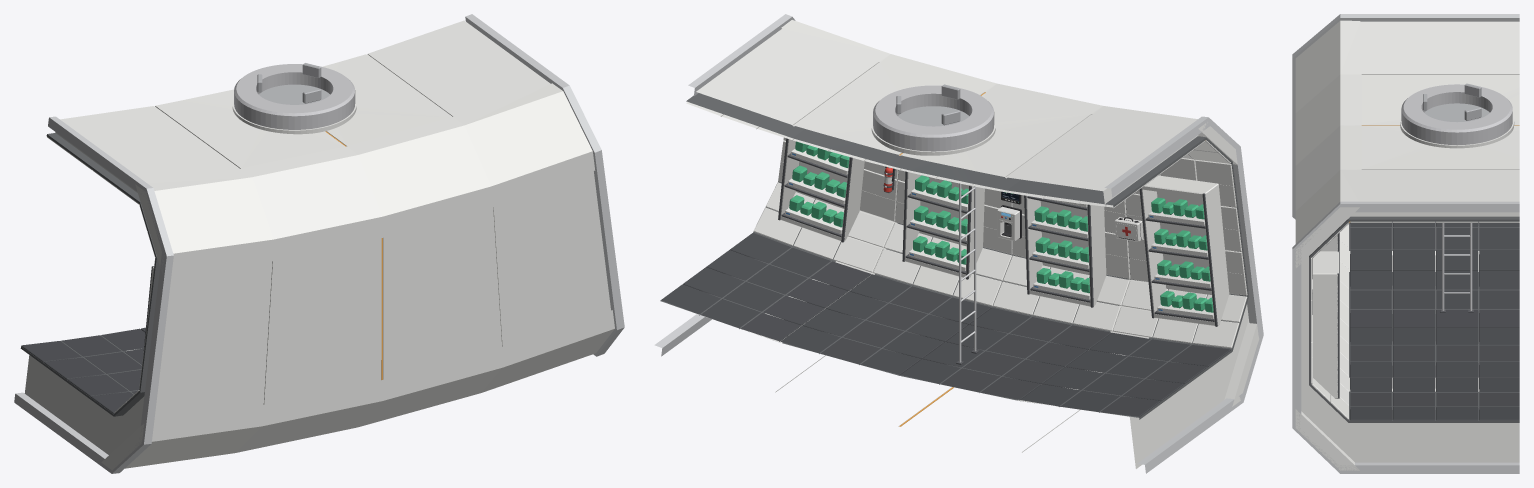
Rendered from ax_grav_07_ring_greenhouse_cutaway.glb.
3 renders of one model, left to right at view 1: azimuth 30°, elevation 25°; view 2: azimuth 150°, elevation 25°; view 3: azimuth 270°, elevation 25°, orthographic. The views are drawn at different scales.
Parts seen in each view (by area): view 1: ext_hull, ext_end_flanges, ext_spoke_port, pressure_vessel, ext_hatch_door_1, floor_tile_13, floor_tile_25, floor_tile_37, floor_tile_26, floor_tile_38, floor_tile_39, ext_spoke_port_pedestal; view 2: ext_hull, pressure_vessel, ext_end_flanges, rack_8_carcass, ext_spoke_port, rack_6_carcass, rack_4_carcass, rack_2_carcass, panel_b23_f09, panel_b21_f00, panel_b1_f09, panel_b0_f09 (+84 smaller); view 3: ext_hull, ext_end_flanges, ext_spoke_port, pressure_vessel, rack_2_carcass, floor_tile_15, floor_tile_03, floor_tile_39, floor_tile_02, floor_tile_14, floor_tile_16, floor_tile_38 (+42 smaller).
Boxes of the visible parts, x1,y1,x2,y2 form: ext_hull: [24, 20, 614, 470]; ext_end_flanges: [14, 14, 624, 473]; ext_spoke_port: [234, 64, 355, 129]; pressure_vessel: [20, 133, 159, 416]; ext_hatch_door_1: [259, 84, 330, 104]; floor_tile_13: [67, 374, 128, 396]; floor_tile_25: [44, 357, 105, 379]; floor_tile_37: [21, 341, 81, 362]; floor_tile_26: [84, 352, 141, 373]; floor_tile_38: [62, 335, 121, 356]; floor_tile_39: [101, 328, 145, 351]; ext_spoke_port_pedestal: [232, 99, 356, 134]; ext_hull: [670, 20, 1259, 468]; pressure_vessel: [660, 93, 1248, 419]; ext_end_flanges: [654, 14, 1263, 473]; rack_8_carcass: [1141, 175, 1229, 325]; ext_spoke_port: [873, 85, 994, 151]; rack_6_carcass: [1026, 196, 1106, 306]; rack_4_carcass: [904, 172, 984, 277]; rack_2_carcass: [780, 139, 864, 241]; panel_b23_f09: [860, 169, 897, 221]; panel_b21_f00: [1195, 160, 1236, 207]; panel_b1_f09: [833, 237, 883, 272]; panel_b0_f09: [848, 211, 894, 247]; ext_hull: [1295, 20, 1519, 470]; ext_end_flanges: [1292, 14, 1519, 473]; ext_spoke_port: [1401, 84, 1512, 145]; pressure_vessel: [1309, 216, 1519, 422]; rack_2_carcass: [1313, 251, 1338, 398]; floor_tile_15: [1392, 249, 1435, 270]; floor_tile_03: [1350, 249, 1391, 270]; floor_tile_39: [1479, 249, 1519, 270]; floor_tile_02: [1350, 228, 1391, 248]; floor_tile_14: [1393, 228, 1434, 248]; floor_tile_16: [1392, 270, 1435, 289]; floor_tile_38: [1479, 228, 1519, 248].
Size of the model in its own units: 7.52 by 4.41 by 3.27.
Materials: 28 (1 with a texture image).
